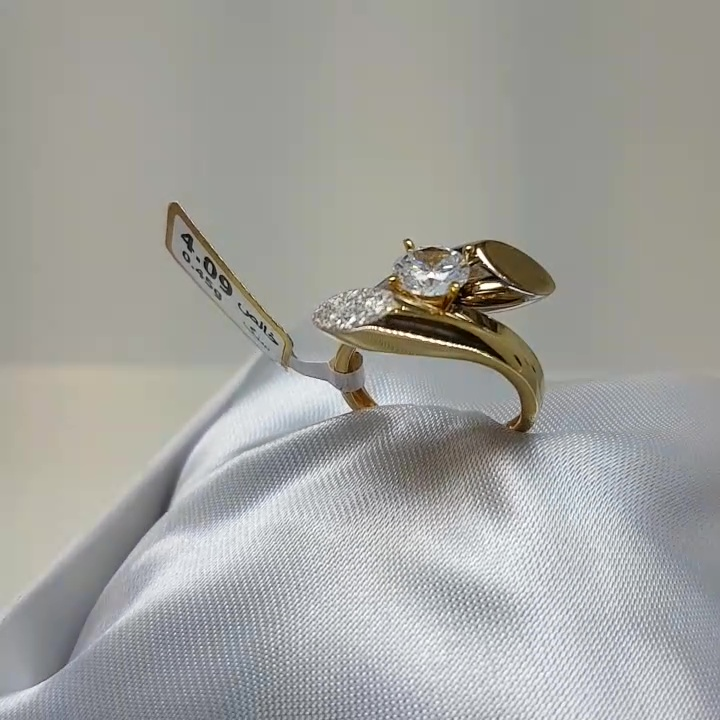Ring 7: (307, 197, 579, 456)
